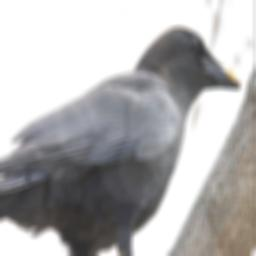Crow: (0, 26, 242, 256)
